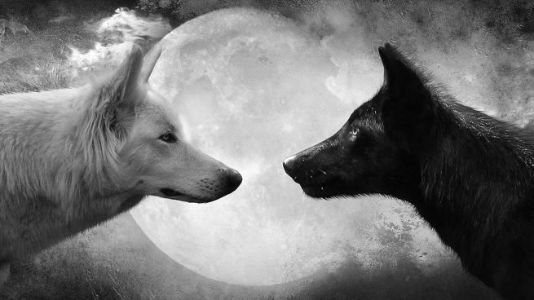wolf: (281, 40, 528, 293), (5, 42, 245, 262)
